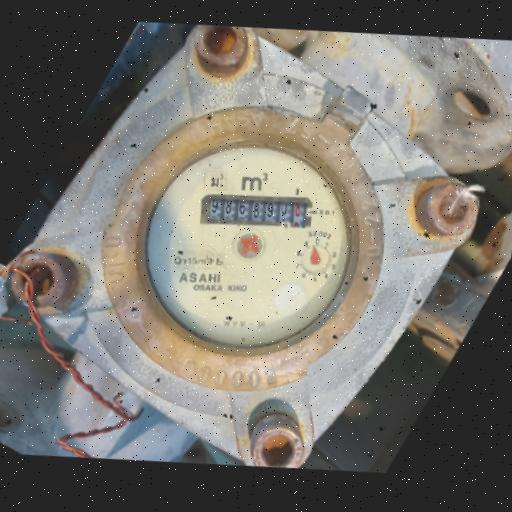0: (279, 200, 291, 222)
6: (238, 199, 249, 220)
8: (293, 201, 304, 228), (224, 198, 236, 220), (251, 199, 263, 220)
9: (209, 198, 223, 219), (265, 199, 277, 221)
border_water_meter_number: (200, 187, 315, 234)
